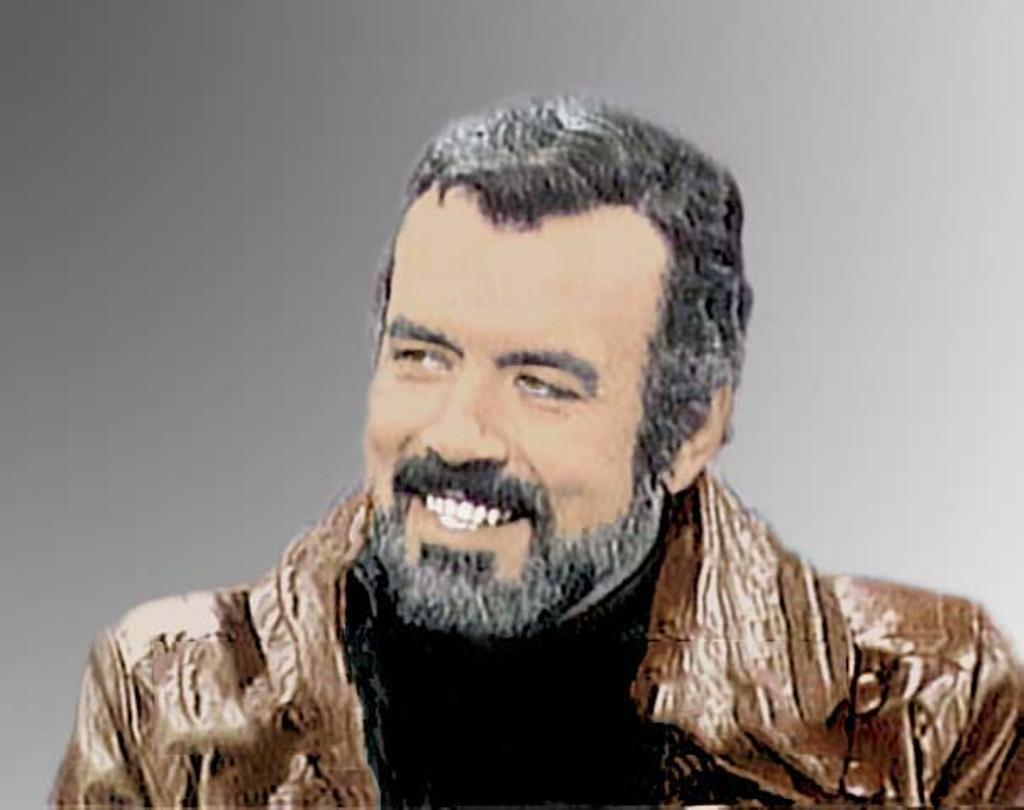face: (364, 190, 660, 610)
